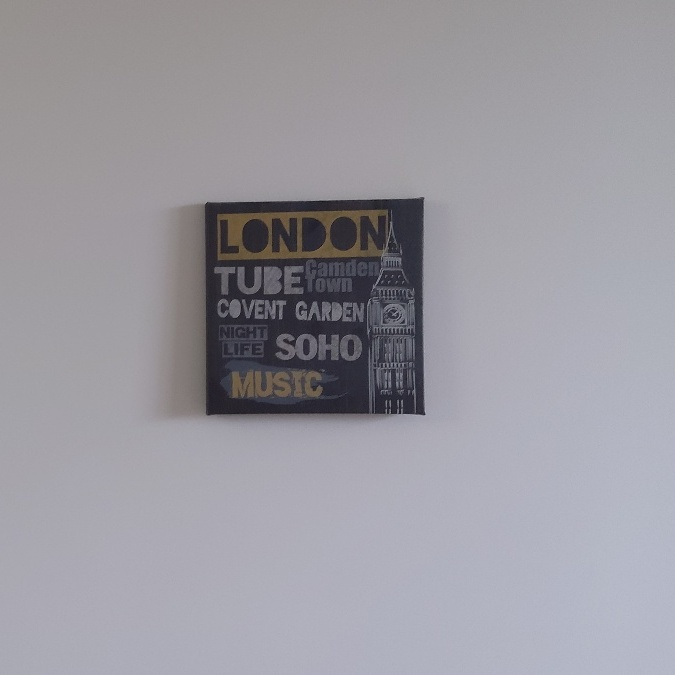poster: (195, 197, 435, 425)
